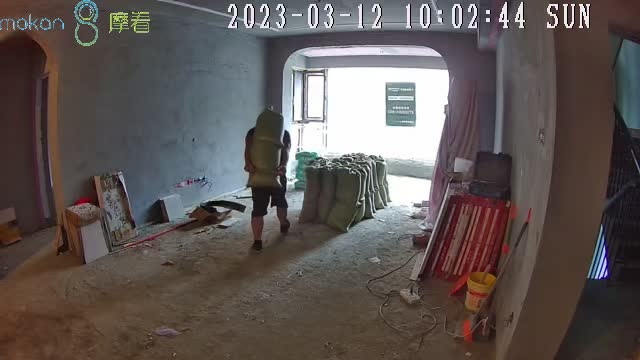people: (245, 115, 292, 251)
window: (292, 66, 450, 169)
